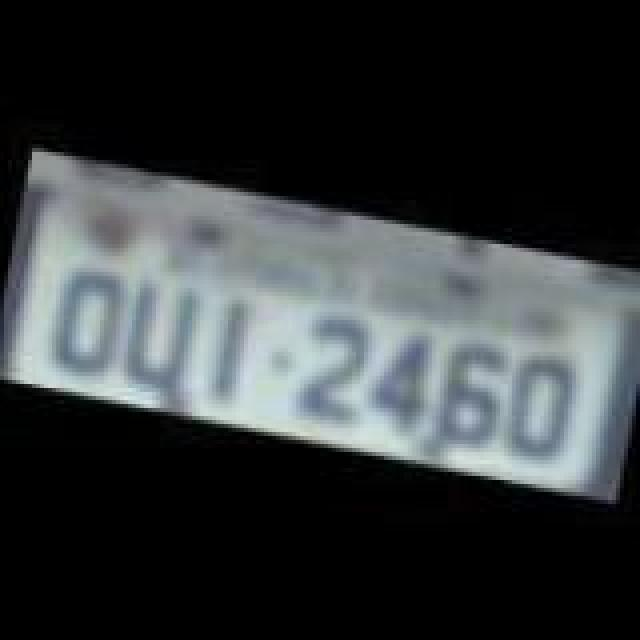1: (198, 290, 250, 402)
2: (282, 304, 378, 428)
4: (358, 320, 438, 440)
6: (426, 334, 514, 450)
O: (40, 256, 136, 384), (492, 350, 576, 466)
U: (114, 270, 206, 390)
